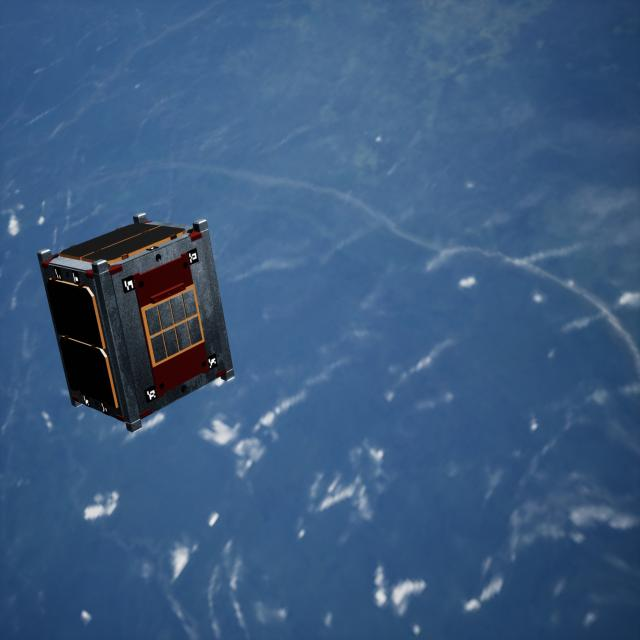medium_debris: (32, 207, 244, 438)
